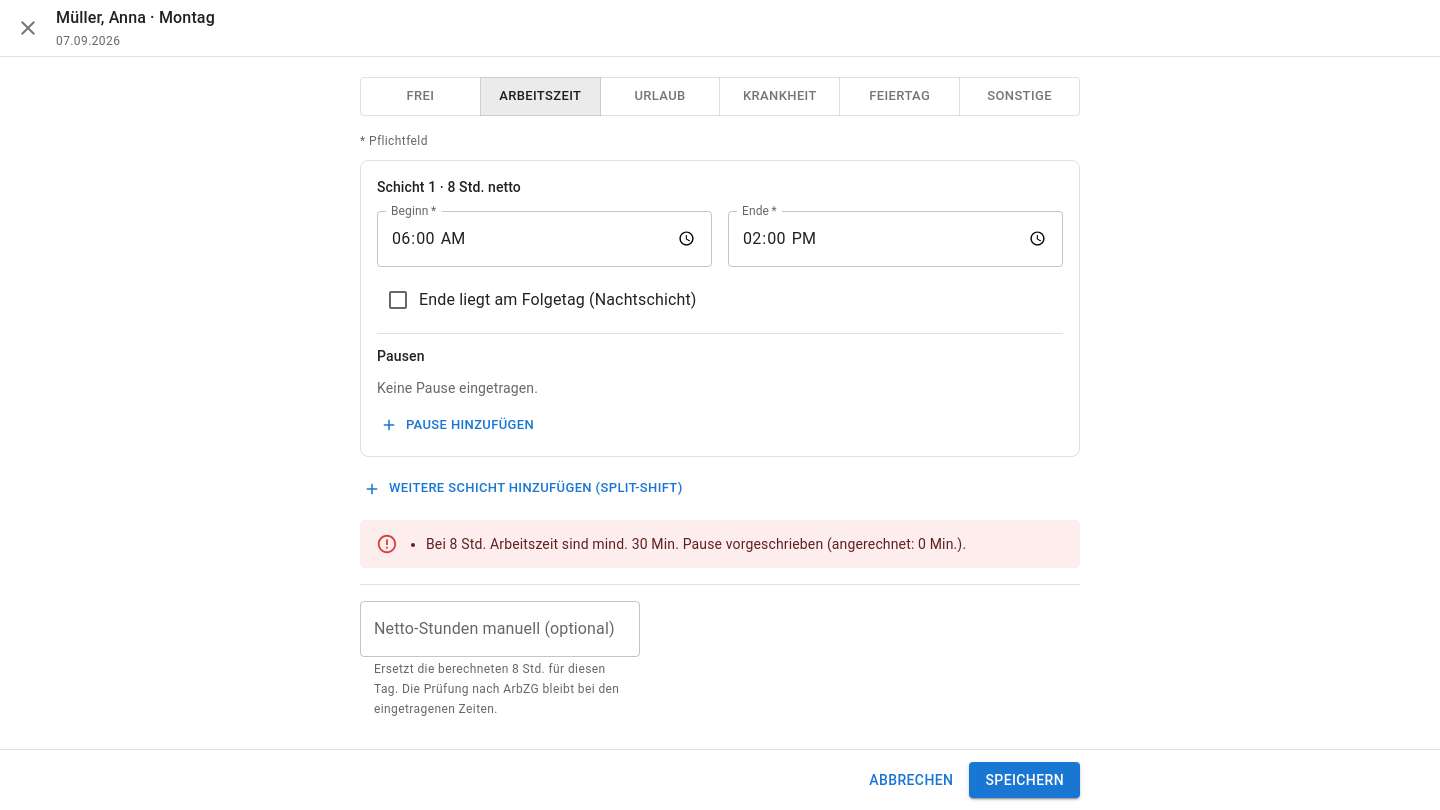
Test case: DayEditor › shows ArbZG warnings while editing
The image size is (1440, 810).
Replace the text in the time field labelled "Ende *" with "15:30" at coordinates (896, 238), box [728,210,1063,266]
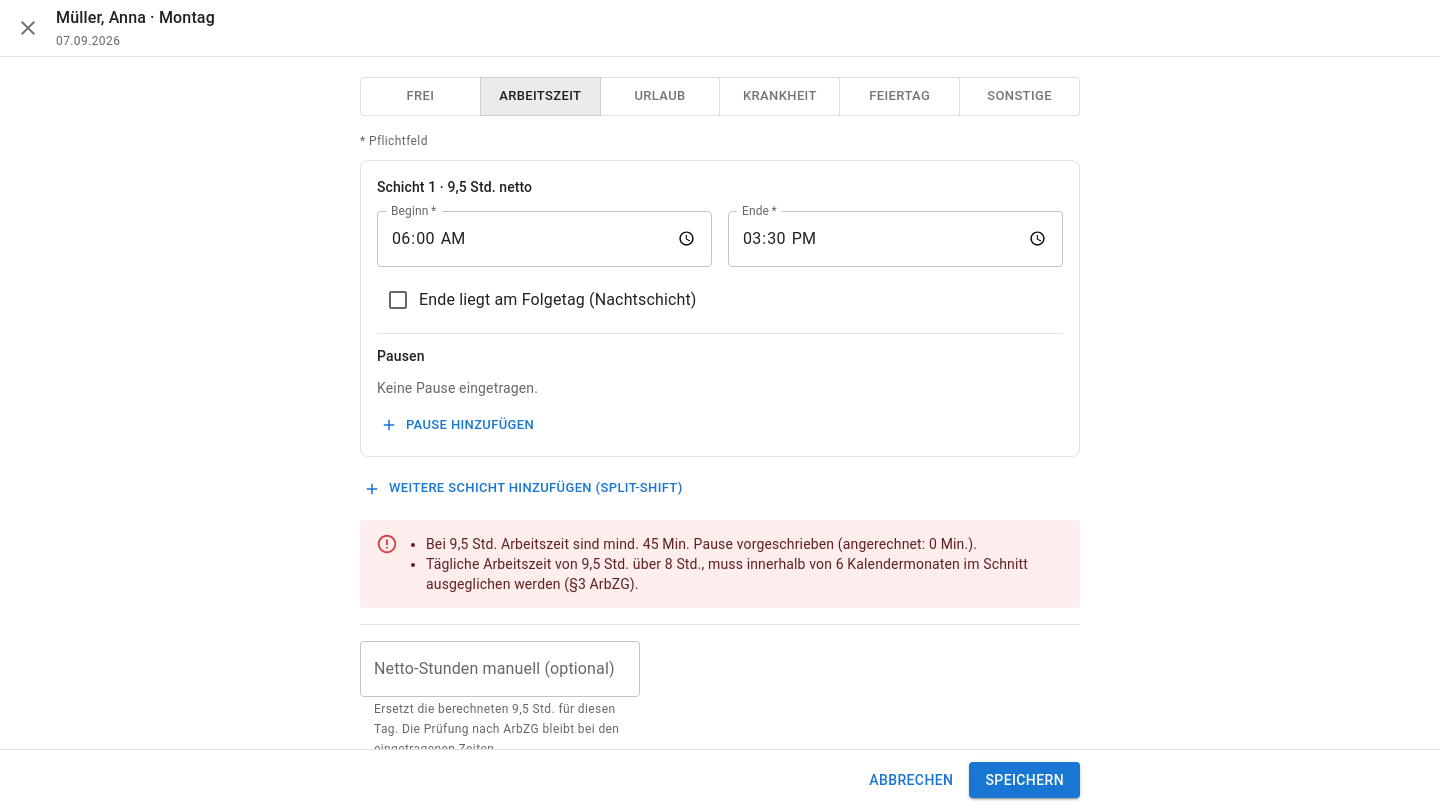
Expected: the element with test id "arbzg-live" shows "über 8 Std", [426,556,1028,592]
